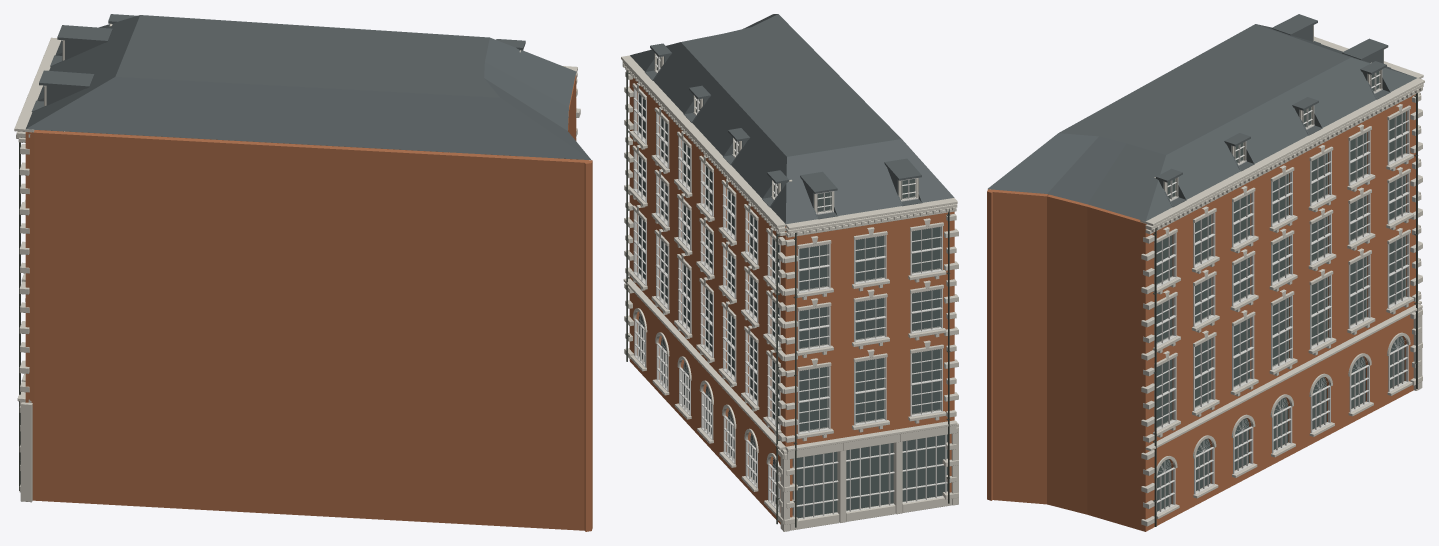
File: lak-exterior-636fae0d5f38.glb
The picture shows the model from 3 angles, left to right: view 1: azimuth 30°, elevation 25°; view 2: azimuth 150°, elevation 25°; view 3: azimuth 270°, elevation 25°; orthographic projection. The views are drawn at different scales.
Visible parts, largest first — view 1: LAK.001; view 2: LAK.001; view 3: LAK.001.
Boxes of the visible parts, box(x1,y1,x2,y2) form: LAK.001: box(14, 14, 592, 531); LAK.001: box(621, 14, 958, 531); LAK.001: box(987, 14, 1424, 531).
Bounding box in the file's own units: 21.55 × 17.55 × 20.1.
